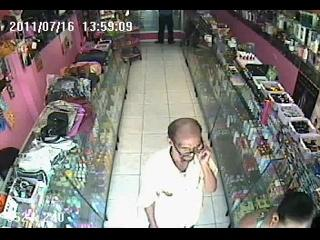Normal: (136, 118, 218, 228), (154, 10, 176, 44)
